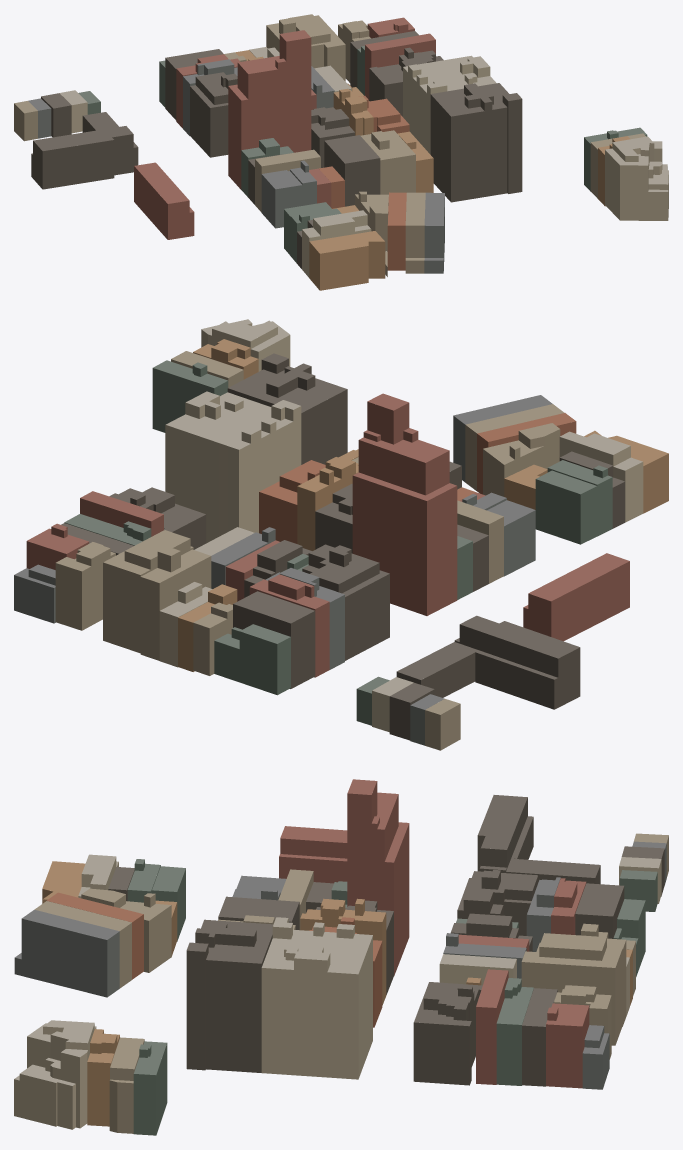
The model's file is tile--6_7.glb.
The picture shows the model from 3 angles, top to bottom: view 1: azimuth 30°, elevation 25°; view 2: azimuth 150°, elevation 25°; view 3: azimuth 270°, elevation 25°; orthographic projection. The views are drawn at different scales.
Visible parts, largest first — view 1: wall, roof; view 2: wall, roof; view 3: wall, roof.
Boxes of the visible parts, left/top/right/bottom form: wall: left=14, top=20, right=668, bottom=290; roof: left=14, top=14, right=668, bottom=266; wall: left=14, top=323, right=668, bottom=750; roof: left=14, top=319, right=668, bottom=714; wall: left=14, top=781, right=668, bottom=1135; roof: left=14, top=779, right=668, bottom=1085.
Bounding box in the file's own units: 220 × 65.26 × 210.
